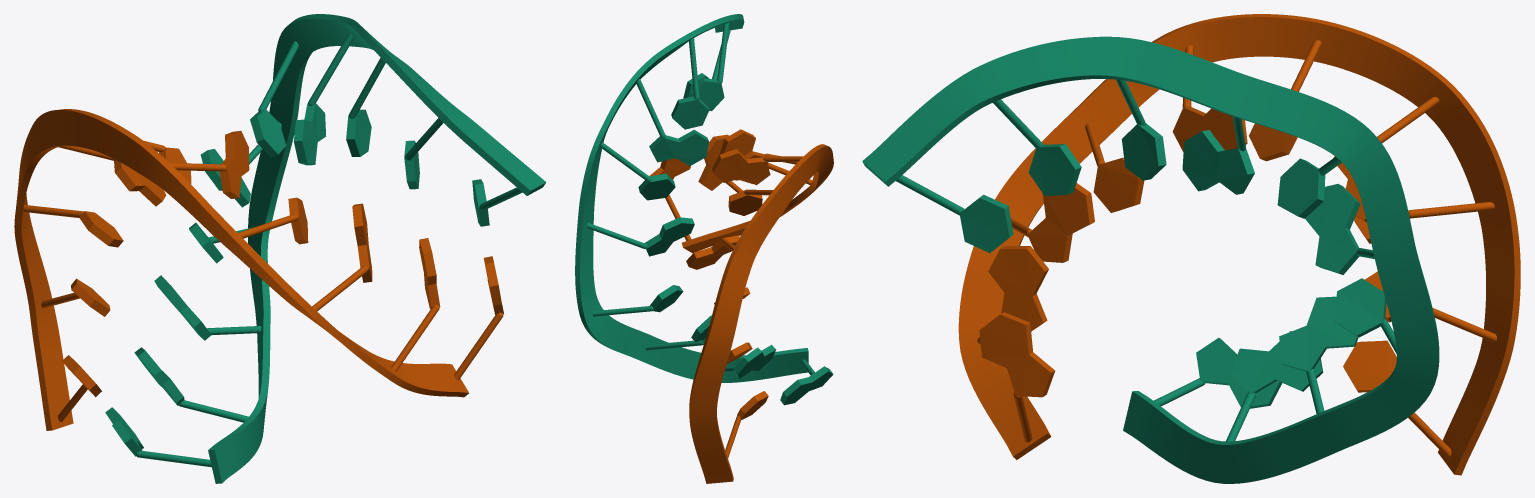
Rendered from A-DNA.glb.
3 renders of one model, left to right at view 1: azimuth 30°, elevation 25°; view 2: azimuth 150°, elevation 25°; view 3: azimuth 270°, elevation 25°, orthographic. The views are drawn at different scales.
Bounding box in the file's own units: 20.04 × 27.56 × 31.
